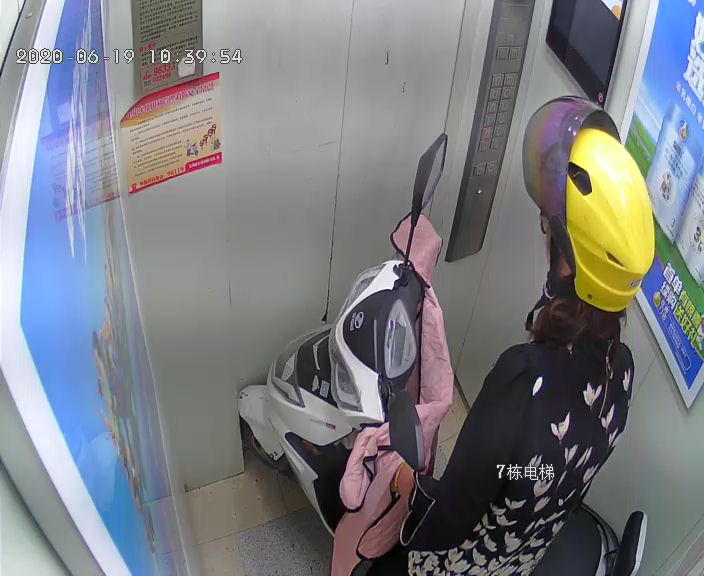Electric-bicycle: (240, 138, 647, 576)
